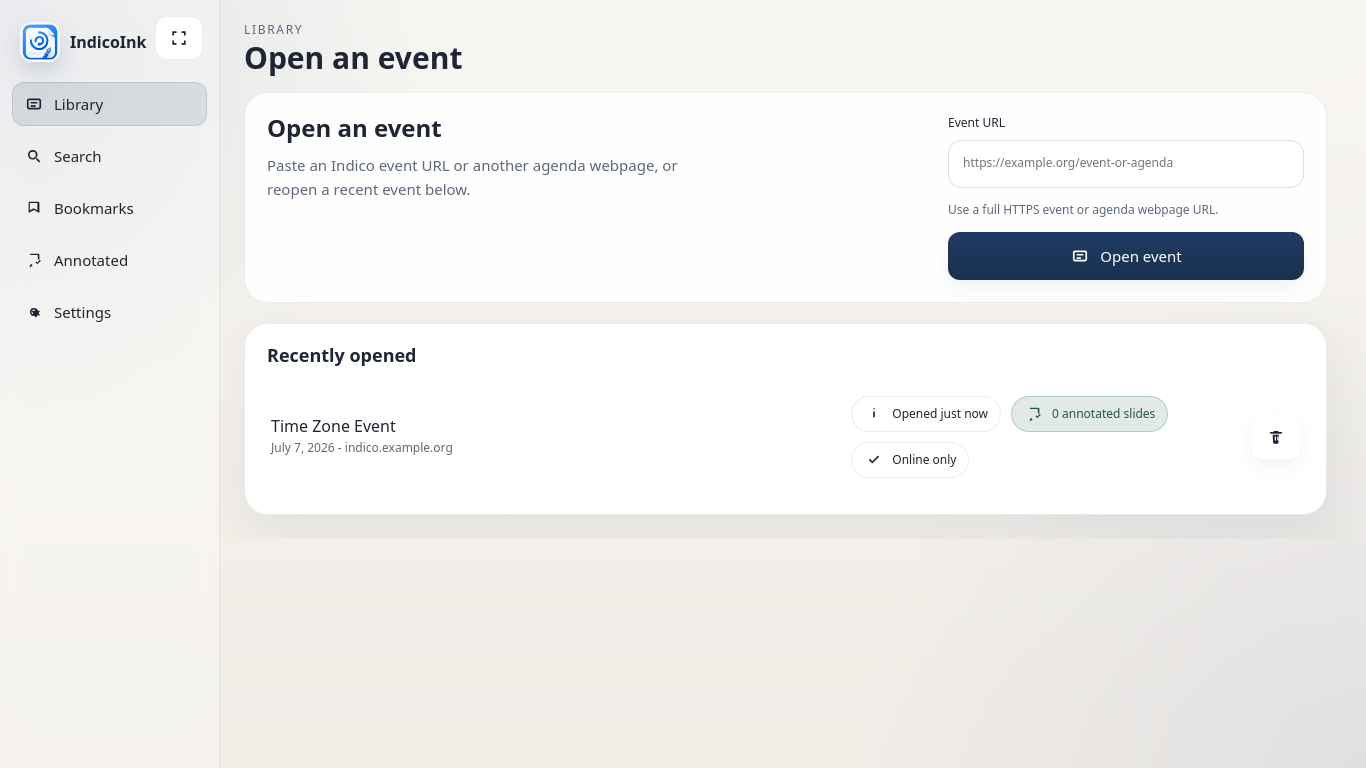
Scenario: App › switches agenda labels between event and local time
Click the button with aria-label "Open Time Zone Event" at (333, 426), box 267,382 -> 1304,492
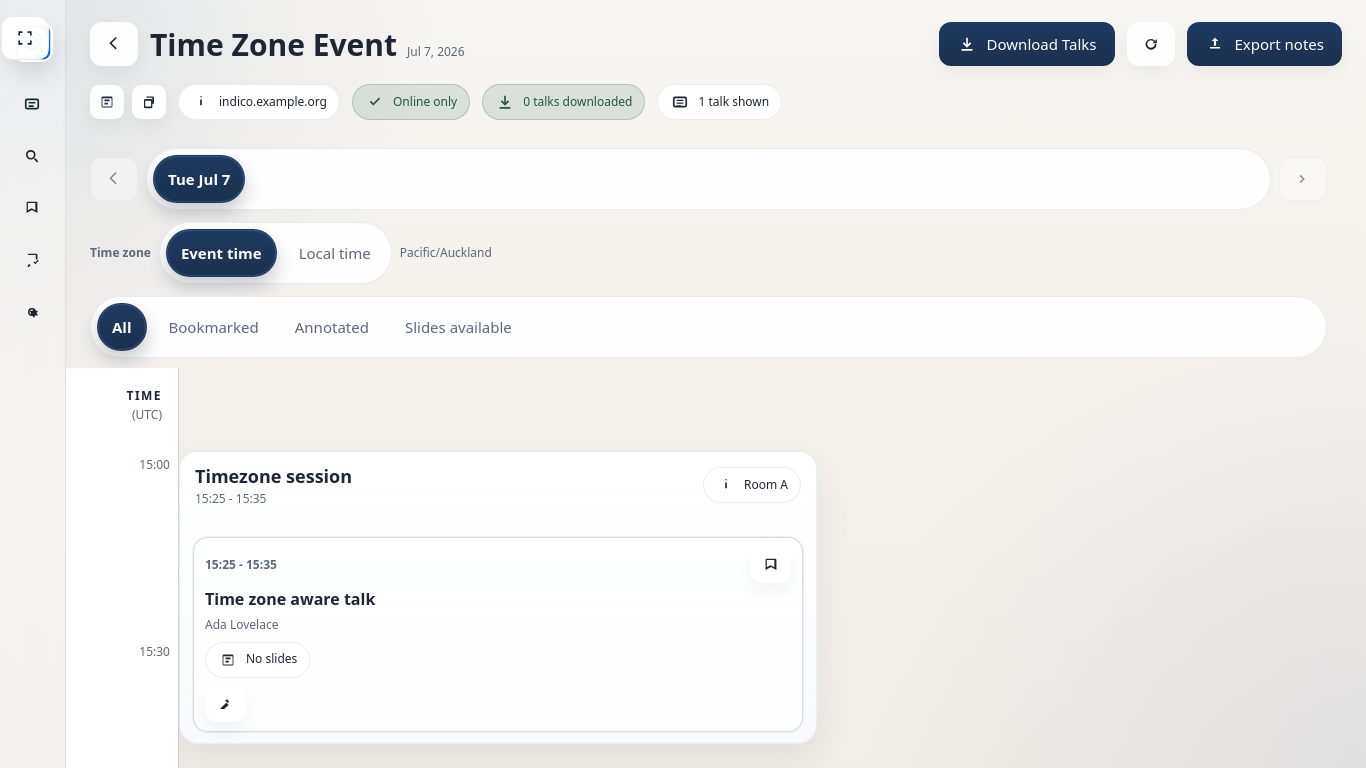
Result: the text "15:25 - 15:35" is shown 2 times at 195,490 -> 266,507; 205,557 -> 277,574
Result: the text "Pacific/Auckland" is shown at 400,245 -> 492,261
Click the button "Local time" at (335, 253), box 285,229 -> 385,277
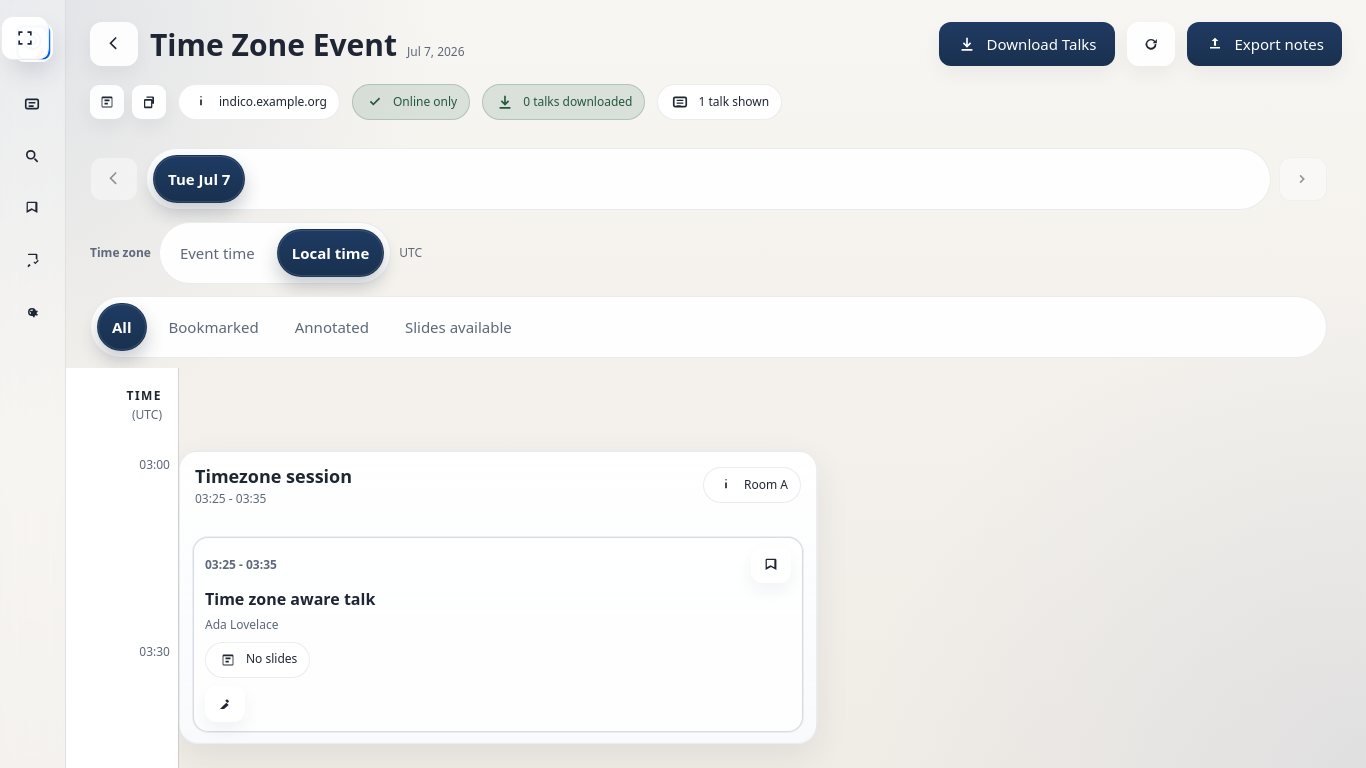
Result: the button titled "Tuesday, July 7, 2026" is shown at 153,155 -> 245,203
Result: the text "15:25 - 15:35" is not shown
